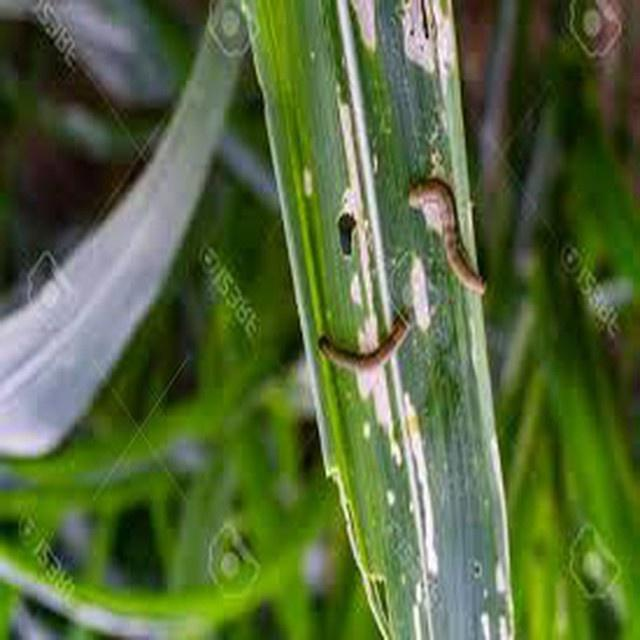gusano_cogollero: (406, 175, 486, 304), (314, 318, 415, 371)
